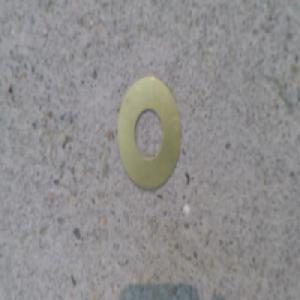Washer: (116, 72, 181, 188)
